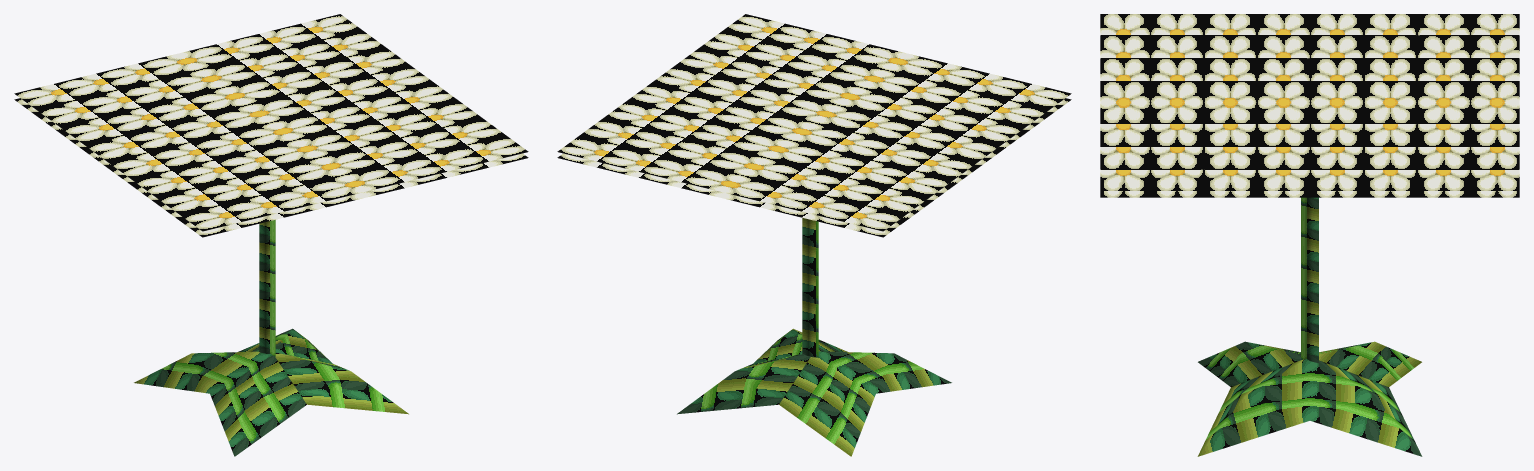
Rendered from 3194IMFY07_06.gltf.
3 renders of one model, left to right at view 1: azimuth 30°, elevation 25°; view 2: azimuth 150°, elevation 25°; view 3: azimuth 270°, elevation 25°, orthographic. The views are drawn at different scales.
Parts seen in each view (by area): view 1: 3194IMFY07_06; view 2: 3194IMFY07_06; view 3: 3194IMFY07_06.
Boxes of the visible parts, <box> form: 3194IMFY07_06: <box>14,14,528,456</box>; 3194IMFY07_06: <box>557,14,1071,456</box>; 3194IMFY07_06: <box>1100,14,1519,456</box>.
Size of the model in its own units: 0.9297 by 0.7512 by 0.9302.
2 materials, 2 textured.
